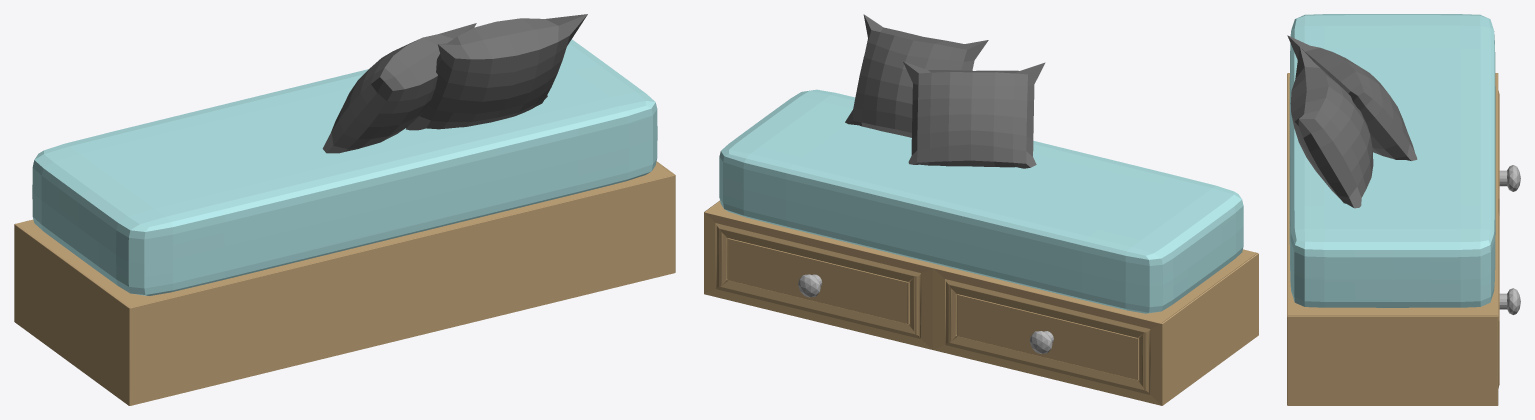
File: sofa.glb
3 views of the same model, side by side, from view 1: azimuth 30°, elevation 25°; view 2: azimuth 150°, elevation 25°; view 3: azimuth 270°, elevation 25° (orthographic). The views are drawn at different scales.
Visible parts, largest first — view 1: Sofa, Pillow.002, Pillow.001; view 2: Sofa, Pillow.001, Pillow.002; view 3: Sofa, Pillow.002, Pillow.001.
Boxes of the visible parts, bbox=[...] form: Sofa: bbox=[14, 39, 675, 405]; Pillow.002: bbox=[406, 14, 587, 130]; Pillow.001: bbox=[322, 23, 476, 153]; Sofa: bbox=[704, 89, 1258, 405]; Pillow.001: bbox=[903, 61, 1045, 168]; Pillow.002: bbox=[845, 14, 988, 137]; Sofa: bbox=[1287, 14, 1520, 405]; Pillow.002: bbox=[1290, 47, 1373, 208]; Pillow.001: bbox=[1287, 35, 1417, 160].
Size of the model in its own units: 2.81 by 1.38 by 1.14.
